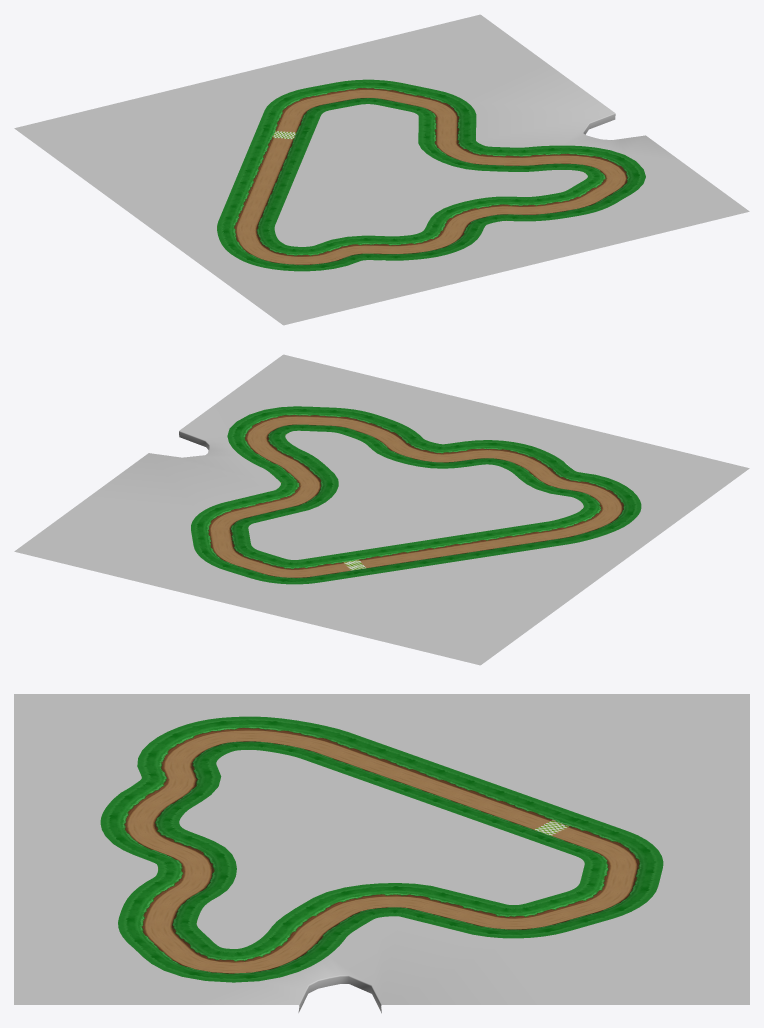
The model's file is rc_04_grd_dm.FBX.
3 renders of one model, top to bottom at view 1: azimuth 30°, elevation 25°; view 2: azimuth 150°, elevation 25°; view 3: azimuth 270°, elevation 25°, orthographic. The views are drawn at different scales.
Parts seen in each view (by area): view 1: rc_04_dm, 图形002; view 2: rc_04_dm, 图形002; view 3: rc_04_dm, 图形002, rc_04_grd_qd.
Part boxes in pixels (left/top/right/bottom): rc_04_dm: left=14, top=14, right=749, bottom=325; 图形002: left=217, top=79, right=645, bottom=271; rc_04_dm: left=14, top=354, right=749, bottom=665; 图形002: left=191, top=406, right=641, bottom=584; rc_04_dm: left=14, top=694, right=749, bottom=1013; 图形002: left=100, top=716, right=663, bottom=982; rc_04_grd_qd: left=517, top=809, right=585, bottom=841.
Bounding box in the file's own units: 80000 × 80000 × 1061.
